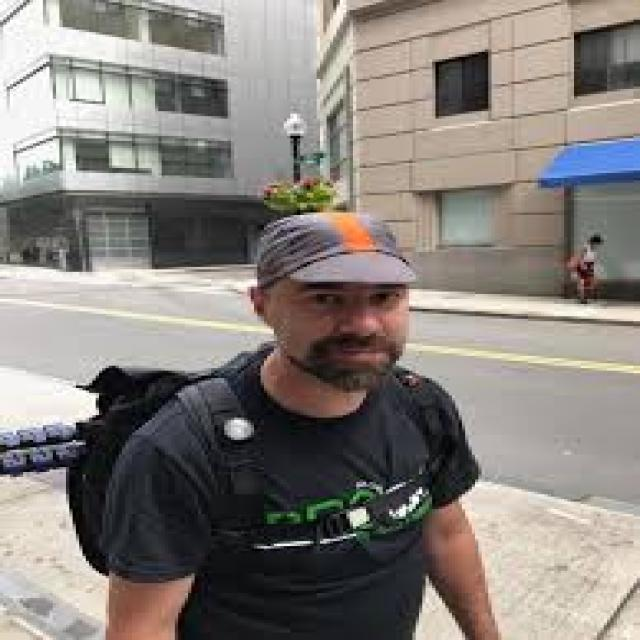cap: (218, 195, 468, 339)
